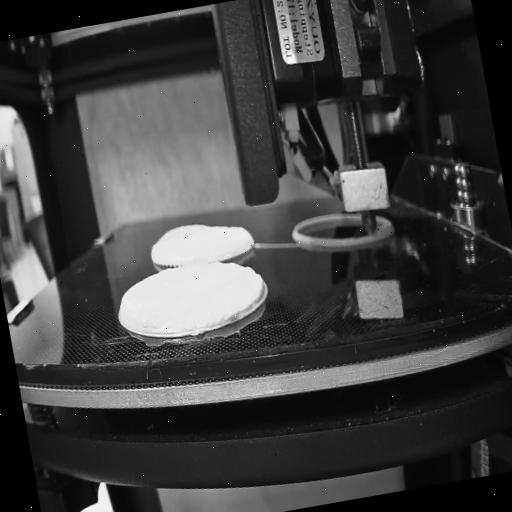over_extrusion: (244, 272, 274, 306)
